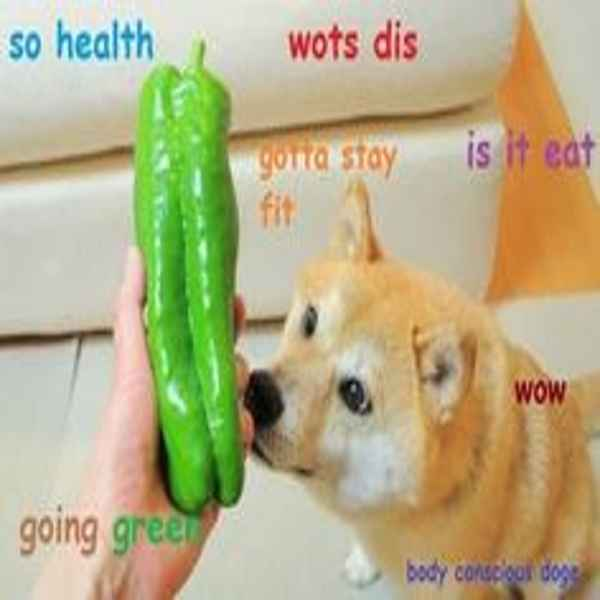doge: (222, 155, 507, 505)
